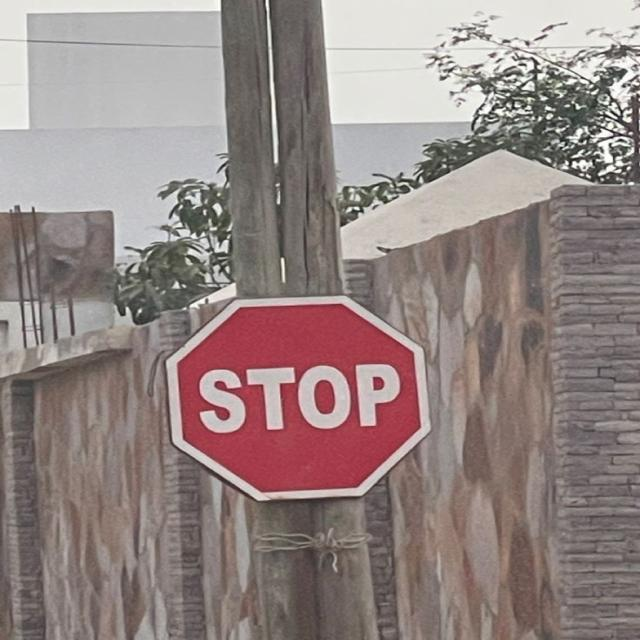stop: (163, 293, 432, 502)
